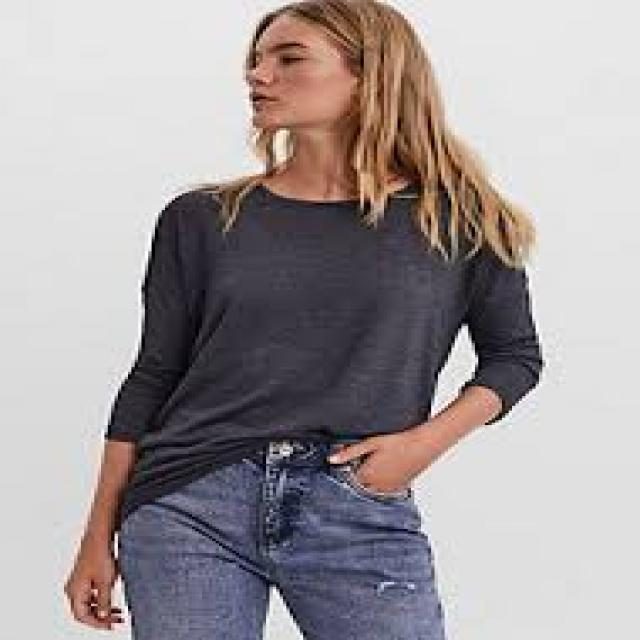plain: (83, 167, 553, 492)
